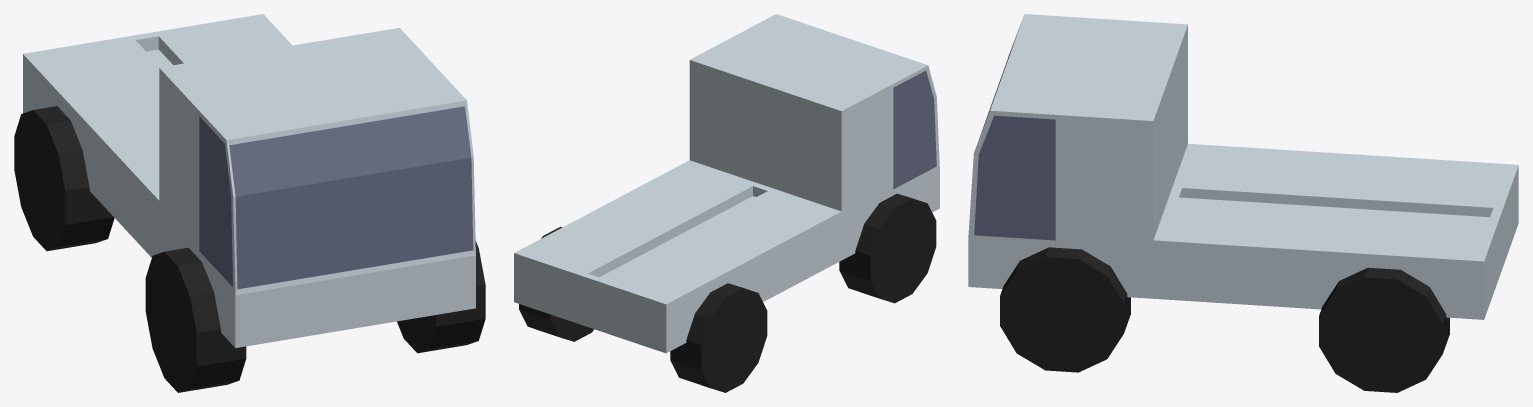
3 renders of one model, left to right at view 1: azimuth 30°, elevation 25°; view 2: azimuth 150°, elevation 25°; view 3: azimuth 270°, elevation 25°, orthographic. The views are drawn at different scales.
Visible parts, largest first — view 1: 立方体.001; view 2: 立方体.001; view 3: 立方体.001.
Part boxes in pixels (box(x1,y1,x2,y2)): 立方体.001: box(14, 14, 485, 392); 立方体.001: box(514, 14, 939, 392); 立方体.001: box(968, 14, 1518, 392).
Bounding box in the file's own units: 16.6 × 13.2 × 26.74.
